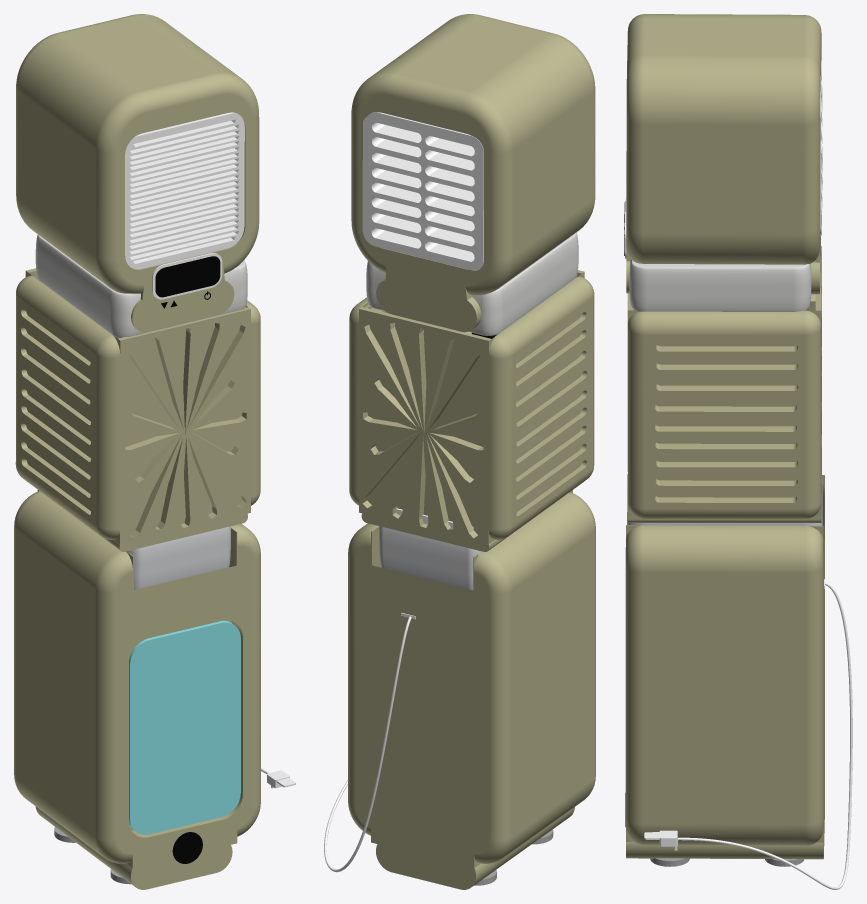
Rendered from aerion-one.glb.
3 renders of one model, left to right at view 1: azimuth 30°, elevation 25°; view 2: azimuth 150°, elevation 25°; view 3: azimuth 270°, elevation 25°, orthographic.
Visible parts, largest first — view 1: part-02, part-06, part-07, part-56, part-18, part-08, part-51, part-39, part-57, part-38; view 2: part-02, part-06, part-07, part-18, part-08, part-51, part-65; view 3: part-02, part-07, part-06, part-08, part-65, part-51, part-18.
Boxes of the visible parts, left/top/right/bottom form: part-02: left=14, top=490, right=260, bottom=889; part-06: left=15, top=268, right=260, bottom=551; part-07: left=16, top=14, right=259, bottom=332; part-56: left=129, top=620, right=240, bottom=834; part-18: left=125, top=112, right=244, bottom=269; part-08: left=35, top=234, right=247, bottom=338; part-51: left=126, top=526, right=230, bottom=589; part-39: left=155, top=256, right=220, bottom=297; part-57: left=172, top=832, right=202, bottom=863; part-38: left=152, top=253, right=222, bottom=299; part-02: left=348, top=490, right=595, bottom=889; part-06: left=349, top=270, right=594, bottom=551; part-07: left=351, top=14, right=595, bottom=332; part-18: left=362, top=112, right=483, bottom=270; part-08: left=366, top=232, right=578, bottom=335; part-51: left=378, top=526, right=483, bottom=590; part-65: left=324, top=616, right=411, bottom=872; part-02: left=625, top=474, right=824, bottom=859; part-07: left=626, top=14, right=821, bottom=294; part-06: left=627, top=246, right=821, bottom=522; part-08: left=629, top=259, right=811, bottom=311; part-65: left=678, top=582, right=852, bottom=889; part-51: left=627, top=478, right=822, bottom=525; part-18: left=820, top=49, right=822, bottom=235.
Bounding box in the file's own units: 42.08 × 158 × 40.45.
